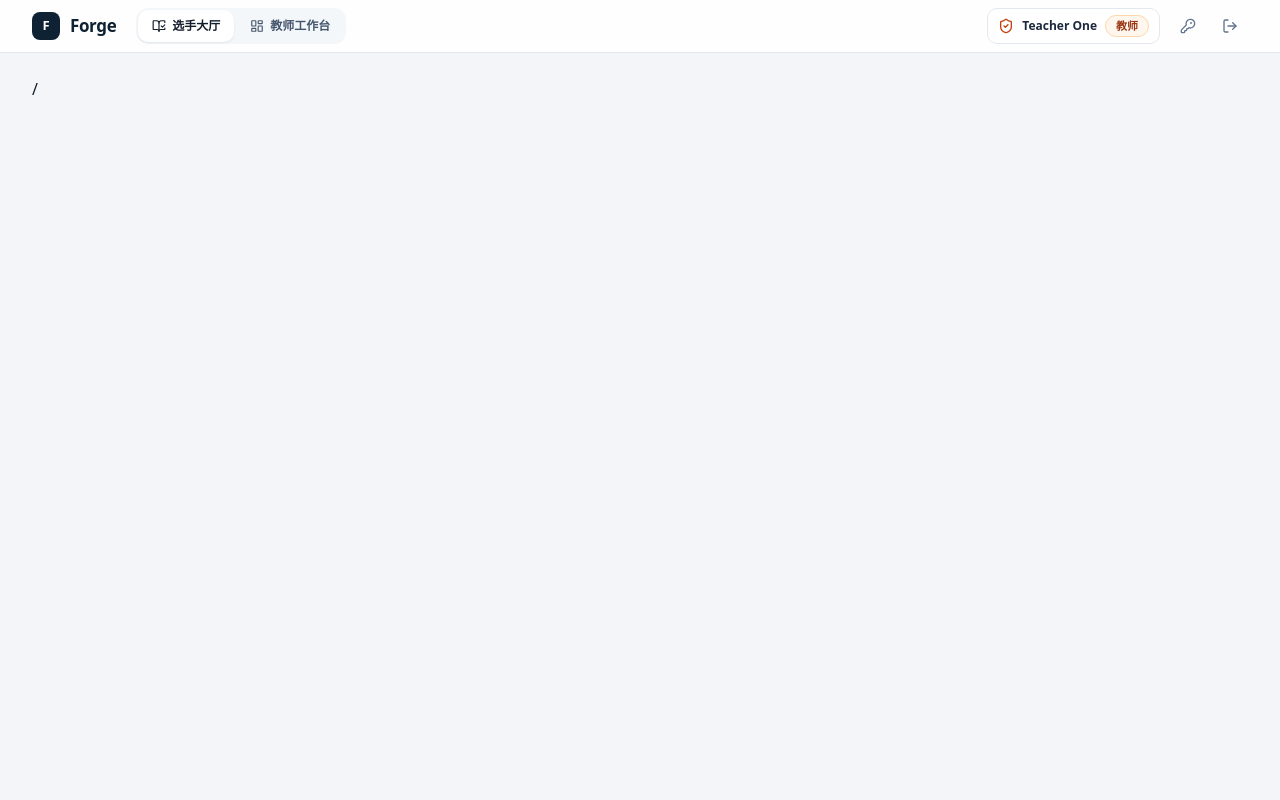
Test: AppShell › navigates educator areas and opens the account security dialog
Expected: the navigation bar named "主导航" is shown, [136, 8, 346, 44]
Expected: the text "Teacher One" is shown, [1022, 18, 1097, 34]
Note: 导航项与移动端图标都可到达教师台，取第一个即可。
Click the link "教师工作台" at (290, 26), box [250, 17, 330, 34]
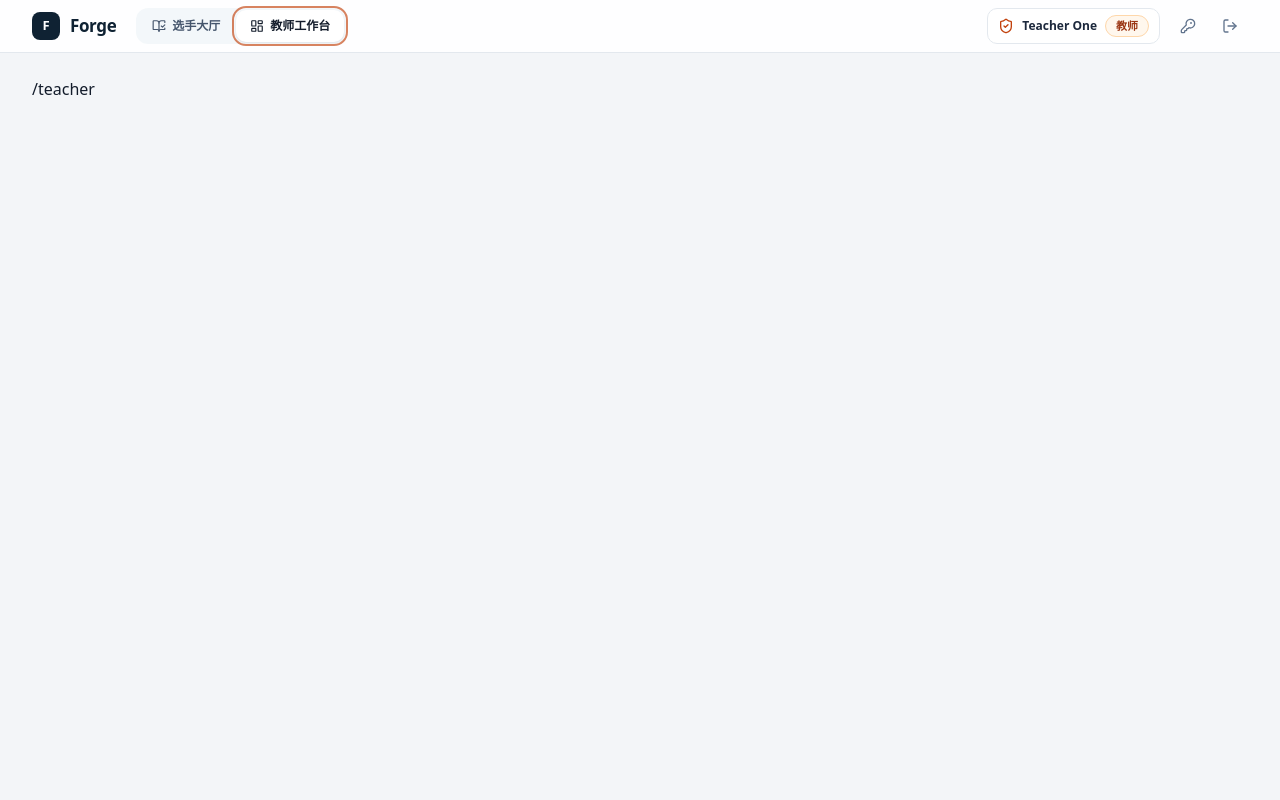
Expected: the link "选手大厅" is shown, [152, 17, 220, 34]
Expected: the text with test id "current-path" reads "/teacher", [32, 78, 95, 100]
Click the button with test id "change-password-button" at (1188, 26), box [1170, 8, 1206, 44]
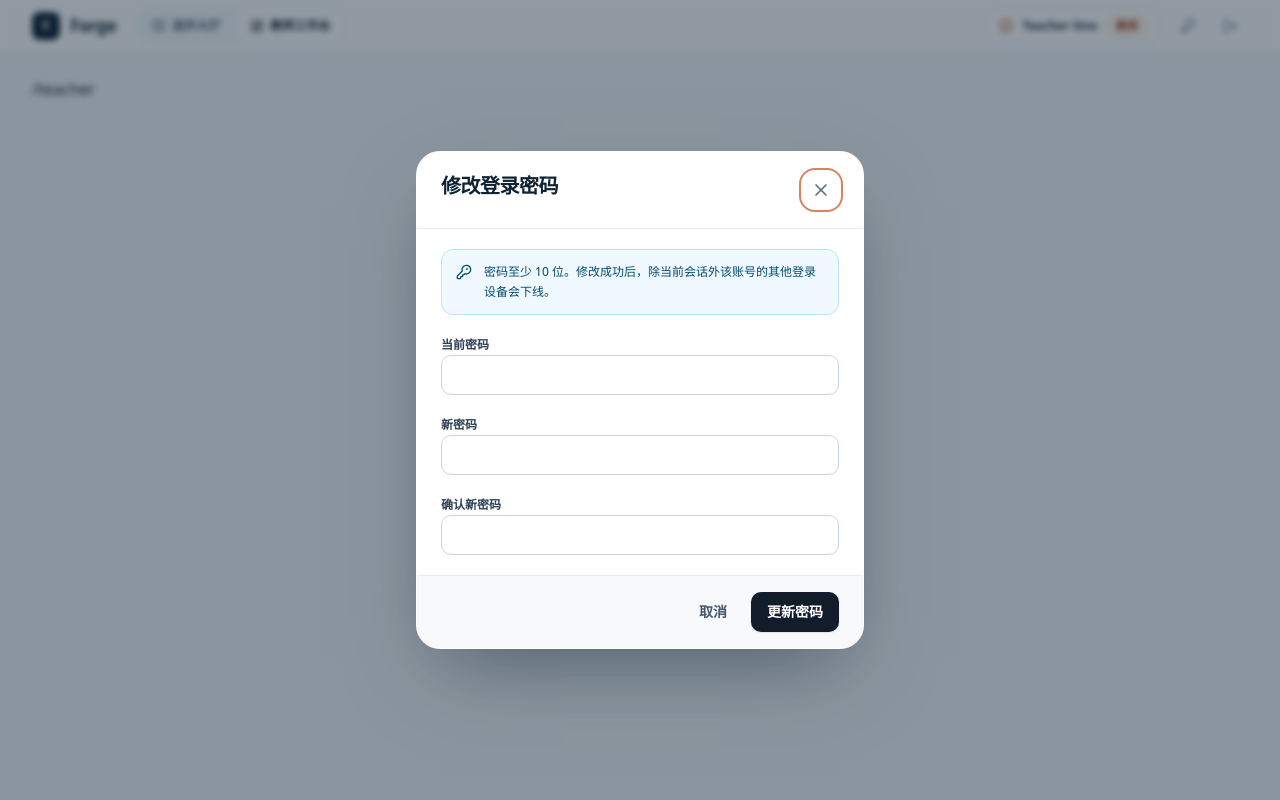
Expected: the dialog "修改登录密码" is shown, [416, 151, 864, 649]
Click the button "取消" at (713, 612), box [683, 592, 743, 632]
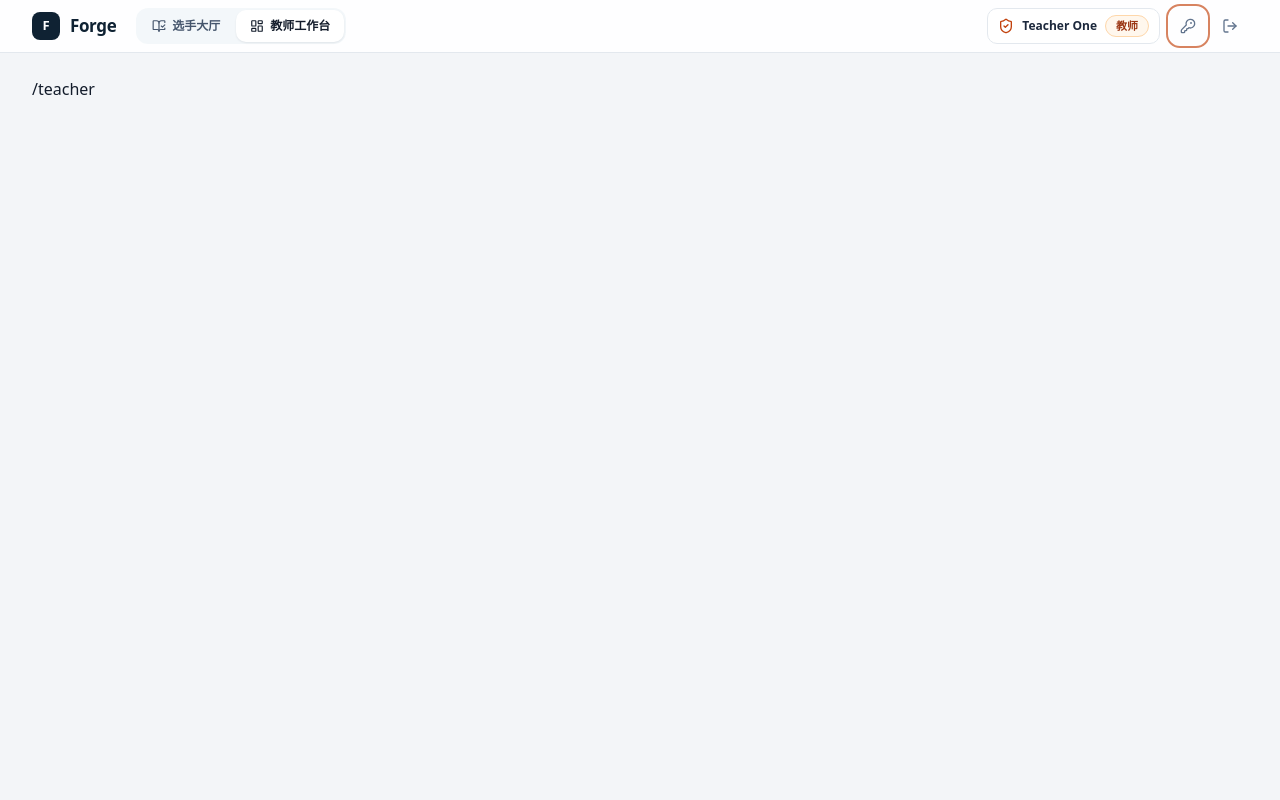
Expected: the dialog is gone
